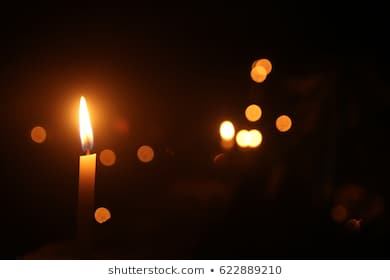Fire: (77, 95, 97, 152)
